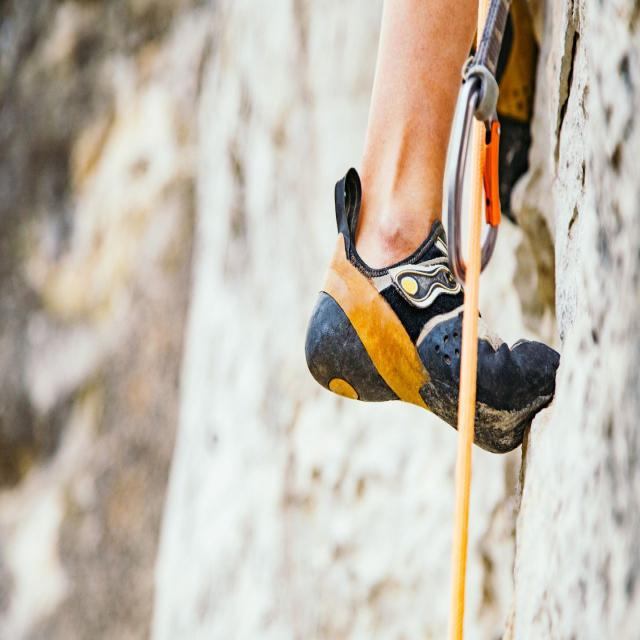climbing-shoes: (304, 167, 563, 455)
